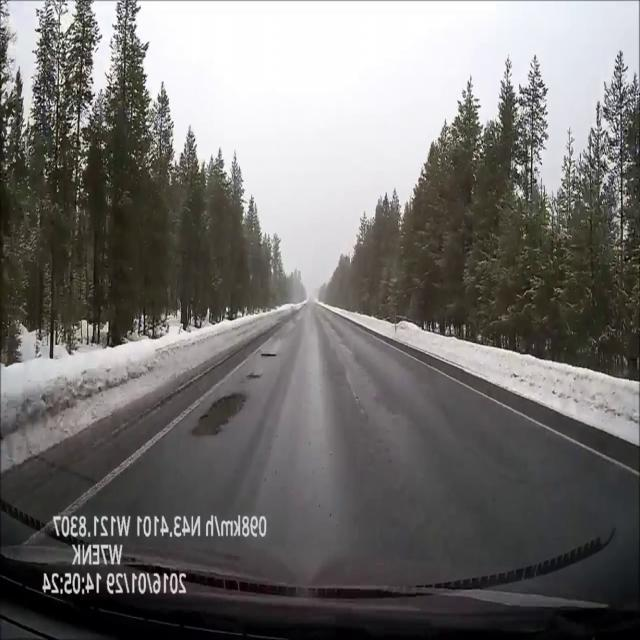pothole: (188, 392, 246, 435), (245, 372, 261, 380), (260, 352, 277, 358)
